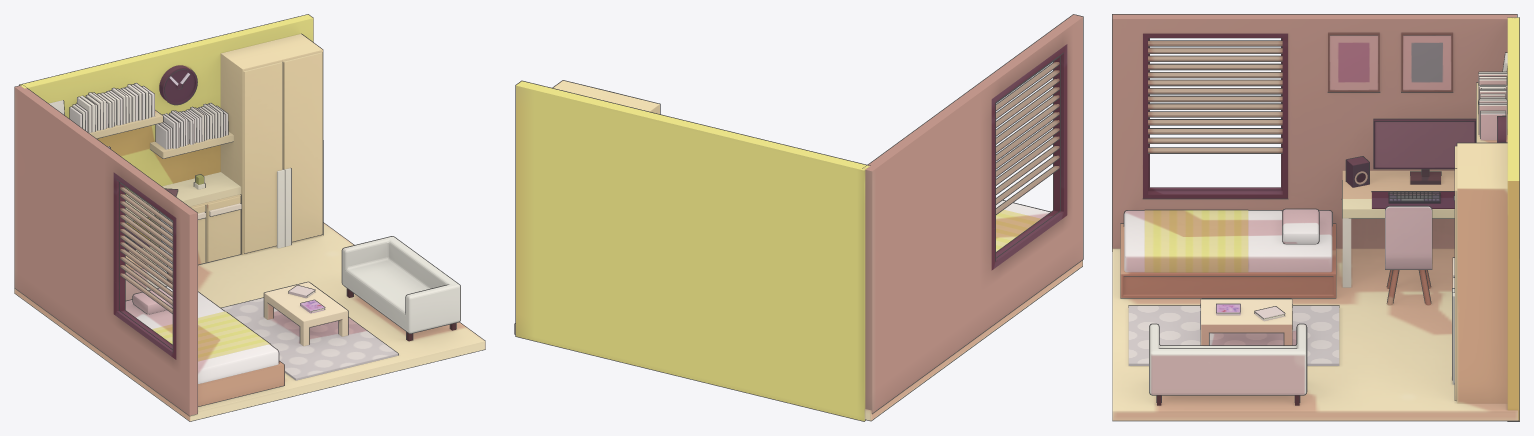
File: LittleRoom.glb
The picture shows the model from 3 angles, left to right: view 1: azimuth 30°, elevation 25°; view 2: azimuth 150°, elevation 25°; view 3: azimuth 270°, elevation 25°; orthographic projection. The views are drawn at different scales.
Visible parts, largest first — view 1: Main_object_0, black_object_1; view 2: Main_object_0, black_object_1; view 3: Main_object_0, black_object_1.
Boxes of the visible parts, x1=… form: Main_object_0: x1=14, y1=14, x2=485, y2=421; black_object_1: x1=14, y1=14, x2=485, y2=421; Main_object_0: x1=515, y1=14, x2=1082, y2=420; black_object_1: x1=514, y1=14, x2=1083, y2=421; Main_object_0: x1=1112, y1=14, x2=1519, y2=420; black_object_1: x1=1112, y1=14, x2=1519, y2=421.
Size of the model in its own units: 2.97 by 1.99 by 3.05.
Materials: 2 (1 with a texture image).
